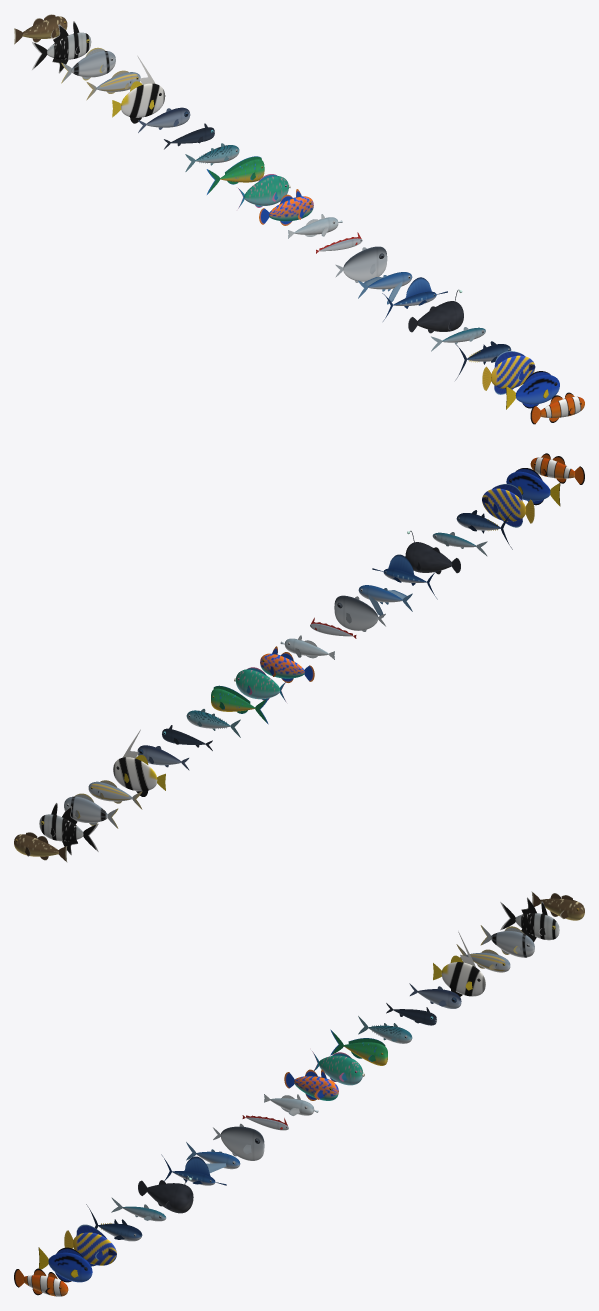
File: baliklar.glb
The picture shows the model from 3 angles, top to bottom: view 1: azimuth 30°, elevation 25°; view 2: azimuth 150°, elevation 25°; view 3: azimuth 330°, elevation 25°; orthographic projection.
Parts seen in each view (by area): view 1: flama_govde, balta_govde, melek_govde, fener_govde, papagan_govde, cerrah_govde, kardinal_govde, karagoz_govde, mandarin_govde, lambuka_govde, palyaco_govde, orfoz_govde (+2 smaller); view 2: flama_govde, balta_govde, melek_govde, fener_govde, papagan_govde, kardinal_govde, cerrah_govde, karagoz_govde, mandarin_govde, orfoz_govde, lambuka_govde, palyaco_govde (+3 smaller); view 3: flama_govde, balta_govde, melek_govde, fener_govde, papagan_govde, cerrah_govde, kardinal_govde, karagoz_govde, mandarin_govde, lambuka_govde, palyaco_govde, orfoz_govde (+2 smaller).
Part boxes in pixels (<box>): flama_govde: <box>121,83,165,117</box>; balta_govde: <box>343,246,387,281</box>; melek_govde: <box>491,355,535,388</box>; fener_govde: <box>417,301,463,331</box>; papagan_govde: <box>244,176,288,205</box>; cerrah_govde: <box>515,375,559,404</box>; kardinal_govde: <box>47,32,91,59</box>; karagoz_govde: <box>71,51,115,77</box>; mandarin_govde: <box>269,196,313,221</box>; lambuka_govde: <box>220,159,264,182</box>; palyaco_govde: <box>540,396,584,417</box>; orfoz_govde: <box>22,16,67,38</box>; flama_govde: <box>113,757,157,791</box>; balta_govde: <box>334,595,378,630</box>; melek_govde: <box>482,488,525,521</box>; fener_govde: <box>405,542,452,572</box>; papagan_govde: <box>235,669,279,699</box>; kardinal_govde: <box>39,814,83,841</box>; cerrah_govde: <box>506,471,550,501</box>; karagoz_govde: <box>64,796,107,822</box>; mandarin_govde: <box>260,653,304,678</box>; orfoz_govde: <box>14,834,58,856</box>; lambuka_govde: <box>211,688,255,711</box>; palyaco_govde: <box>530,457,574,478</box>; flama_govde: <box>441,962,485,996</box>; balta_govde: <box>220,1126,264,1160</box>; melek_govde: <box>73,1232,116,1265</box>; fener_govde: <box>146,1183,193,1213</box>; papagan_govde: <box>319,1055,363,1085</box>; cerrah_govde: <box>48,1252,92,1282</box>; kardinal_govde: <box>515,913,559,940</box>; karagoz_govde: <box>491,931,534,957</box>; mandarin_govde: <box>294,1076,338,1100</box>; lambuka_govde: <box>343,1042,387,1065</box>; palyaco_govde: <box>23,1275,68,1296</box>; orfoz_govde: <box>540,898,584,920</box>.
Size of the model in its own units: 1.32 by 1.28 by 17.04.
